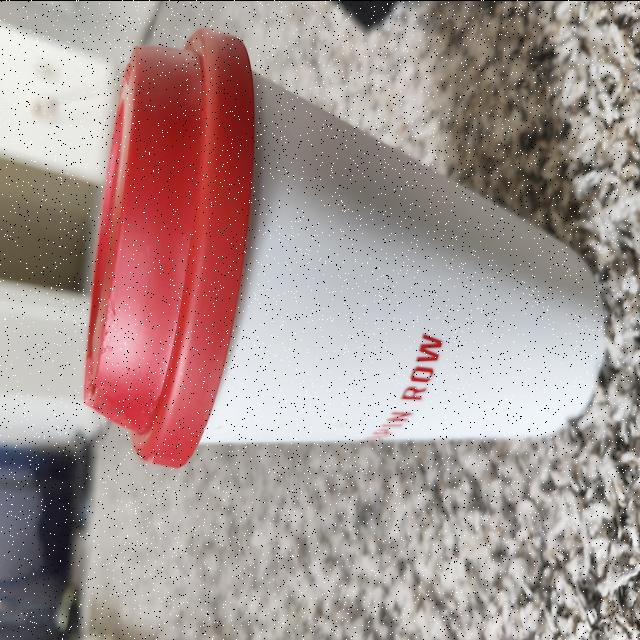mug: (81, 28, 610, 464)
